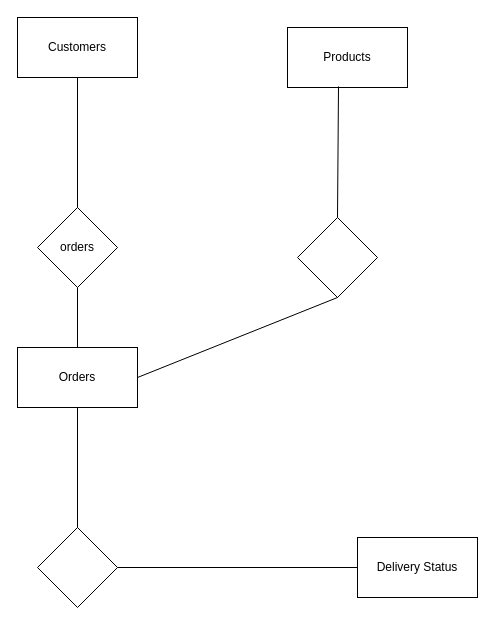
Image size: 495x625. Some labels were removed from this diagram. Each missing label, with the box of its shape:
Contains: (296, 216, 378, 298)
Delivered: (36, 526, 118, 608)
